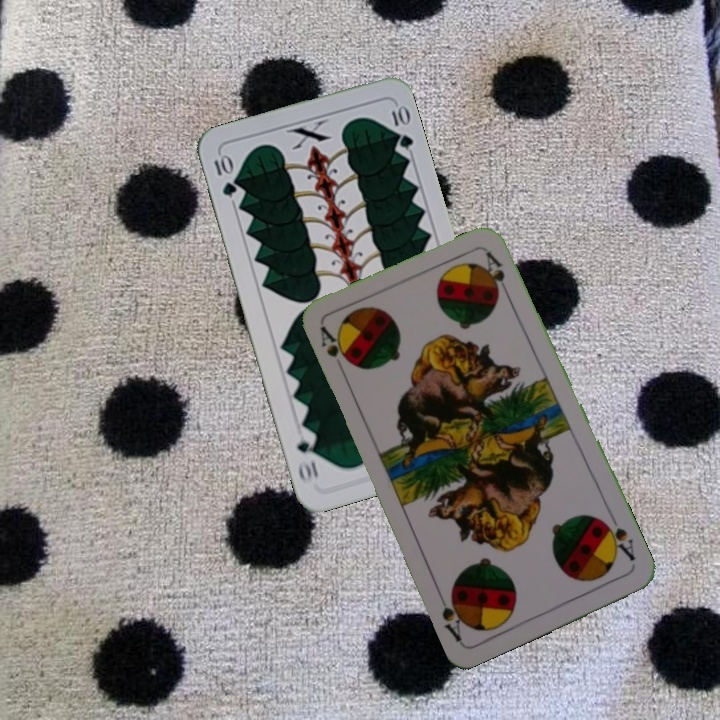G10: (209, 150, 239, 200)
SA: (598, 511, 638, 564), (316, 322, 354, 369)
